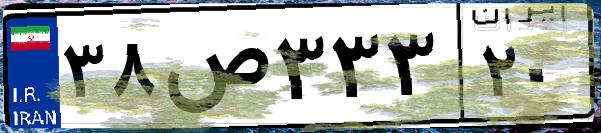0: (525, 38, 570, 115)
2: (475, 38, 525, 113)
3: (270, 28, 330, 110), (385, 28, 445, 110), (330, 28, 385, 110), (57, 26, 110, 100)
8: (110, 28, 158, 98)
ص: (158, 20, 270, 120)
